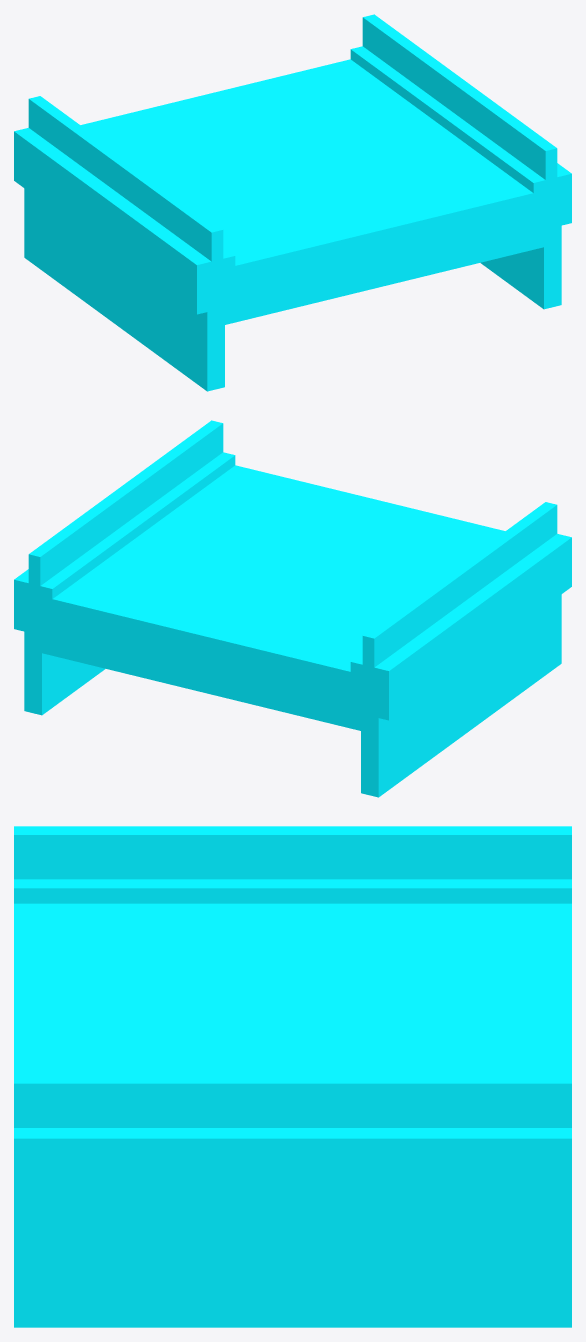
The model's file is SM_Bld_Bridge_Section_01_Collision.fbx.
3 views of the same model, one above another, from view 1: azimuth 30°, elevation 25°; view 2: azimuth 150°, elevation 25°; view 3: azimuth 270°, elevation 25° (orthographic). The views are drawn at different scales.
Visible parts, largest first — view 1: SM_Bld_Bridge_Section_01_Collision; view 2: SM_Bld_Bridge_Section_01_Collision; view 3: SM_Bld_Bridge_Section_01_Collision.
Part boxes in pixels (left/top/right/bottom): SM_Bld_Bridge_Section_01_Collision: left=14, top=14, right=571, bottom=391; SM_Bld_Bridge_Section_01_Collision: left=14, top=420, right=571, bottom=797; SM_Bld_Bridge_Section_01_Collision: left=14, top=826, right=571, bottom=1327.
Size of the model in its own units: 2013 by 810 by 1700.
